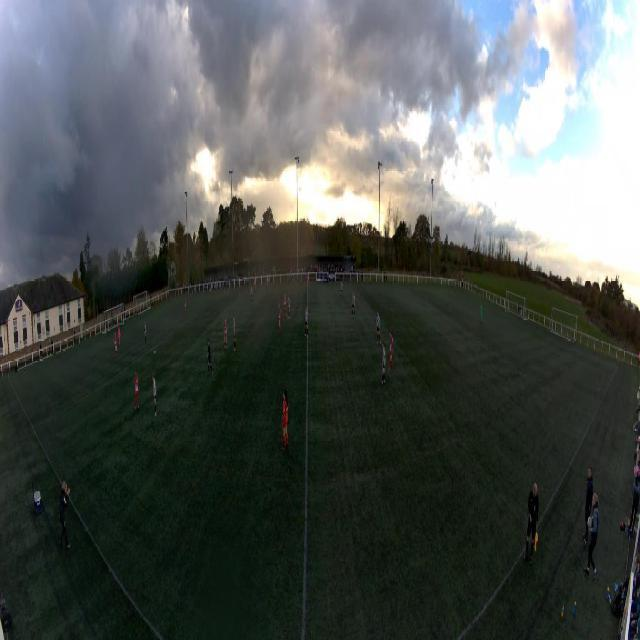ball: (154, 350, 156, 357)
player: (282, 390, 290, 448), (134, 369, 140, 411), (207, 338, 213, 376), (381, 342, 386, 384), (152, 374, 157, 415), (376, 311, 381, 343), (389, 330, 393, 370), (304, 307, 309, 336), (224, 317, 228, 351), (278, 304, 282, 335), (233, 317, 236, 352), (287, 293, 291, 319), (113, 332, 117, 358), (351, 292, 355, 317), (283, 293, 287, 317), (339, 282, 343, 299), (144, 322, 147, 343), (480, 304, 483, 324), (306, 275, 310, 290), (118, 327, 121, 345), (250, 287, 253, 305), (184, 298, 186, 315), (254, 281, 257, 292)
